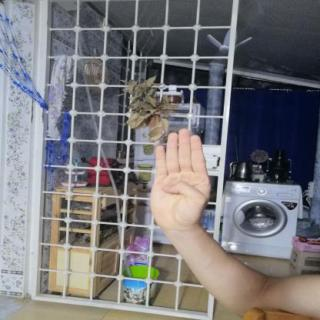KAAF: (142, 122, 220, 235)
